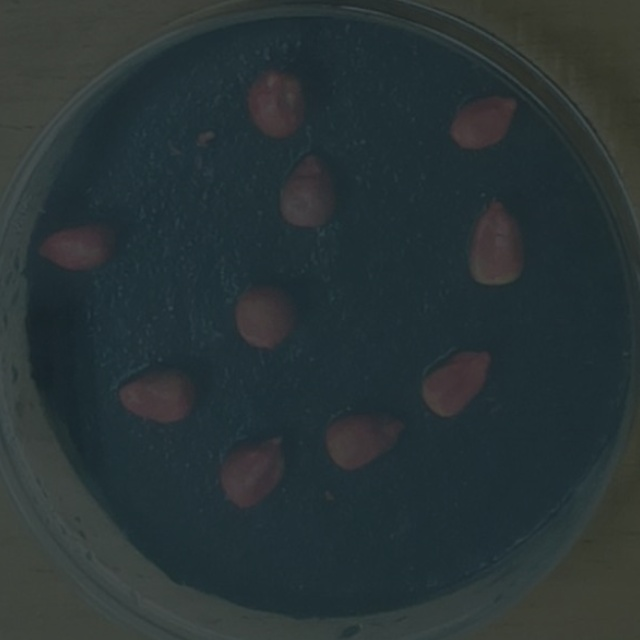Zea mays: (412, 338, 500, 424), (460, 192, 532, 293), (213, 423, 291, 513), (317, 402, 412, 474), (110, 358, 204, 429), (273, 143, 345, 233), (240, 58, 313, 145), (228, 274, 304, 357), (443, 83, 526, 158), (29, 213, 122, 275)
